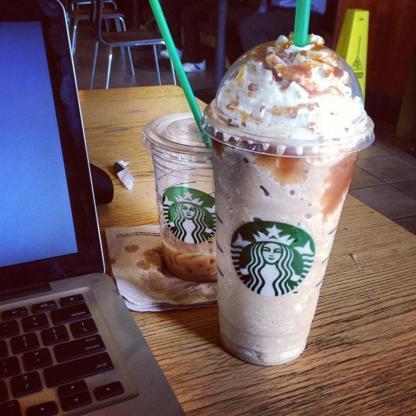board: (2, 0, 186, 414), (214, 40, 371, 366), (144, 116, 220, 279)
